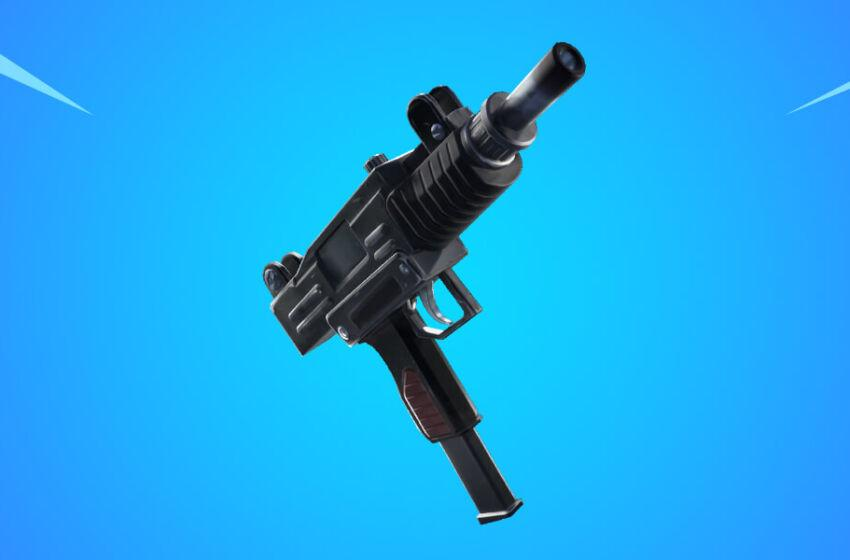Pistol: (262, 38, 588, 528)
